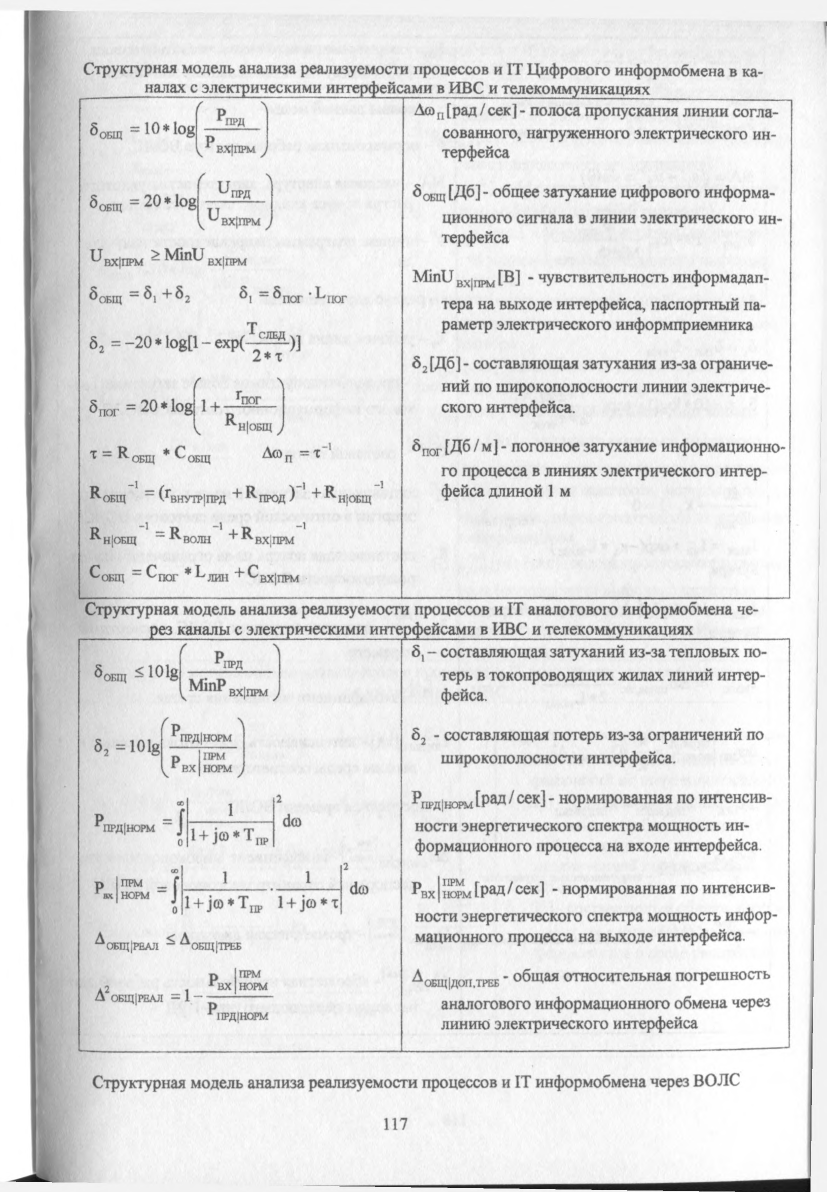symbol: (93, 876, 148, 911), (94, 983, 165, 1008), (248, 557, 300, 589), (197, 206, 260, 232), (174, 753, 232, 780), (211, 967, 267, 994), (168, 722, 239, 743), (87, 816, 161, 834), (161, 520, 211, 546), (88, 561, 135, 588), (113, 441, 161, 467), (86, 112, 124, 144), (241, 524, 290, 548), (162, 487, 231, 504), (225, 414, 271, 438), (91, 191, 129, 219), (142, 561, 182, 586), (246, 481, 286, 505), (88, 281, 122, 309), (86, 481, 124, 506), (209, 139, 252, 161), (196, 561, 232, 587), (209, 1003, 266, 1019), (89, 526, 139, 544), (323, 481, 367, 501), (314, 281, 349, 306), (89, 394, 118, 424), (212, 105, 251, 127), (174, 444, 209, 468), (259, 446, 295, 468), (168, 281, 200, 305), (270, 283, 302, 307), (214, 181, 252, 198), (247, 323, 289, 338), (231, 387, 264, 403), (92, 730, 106, 765), (87, 335, 109, 355), (249, 828, 268, 845), (87, 447, 100, 468), (236, 286, 249, 305), (309, 447, 321, 465), (147, 282, 154, 302), (277, 347, 283, 367)
